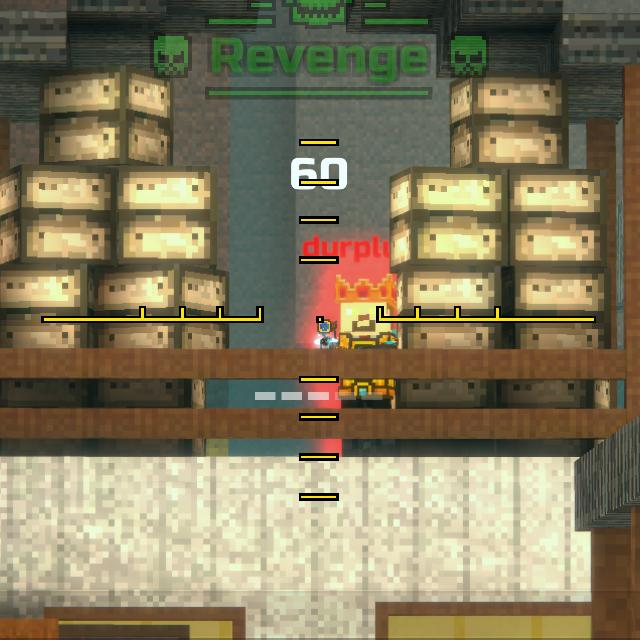Enemy: (335, 274, 396, 458)
